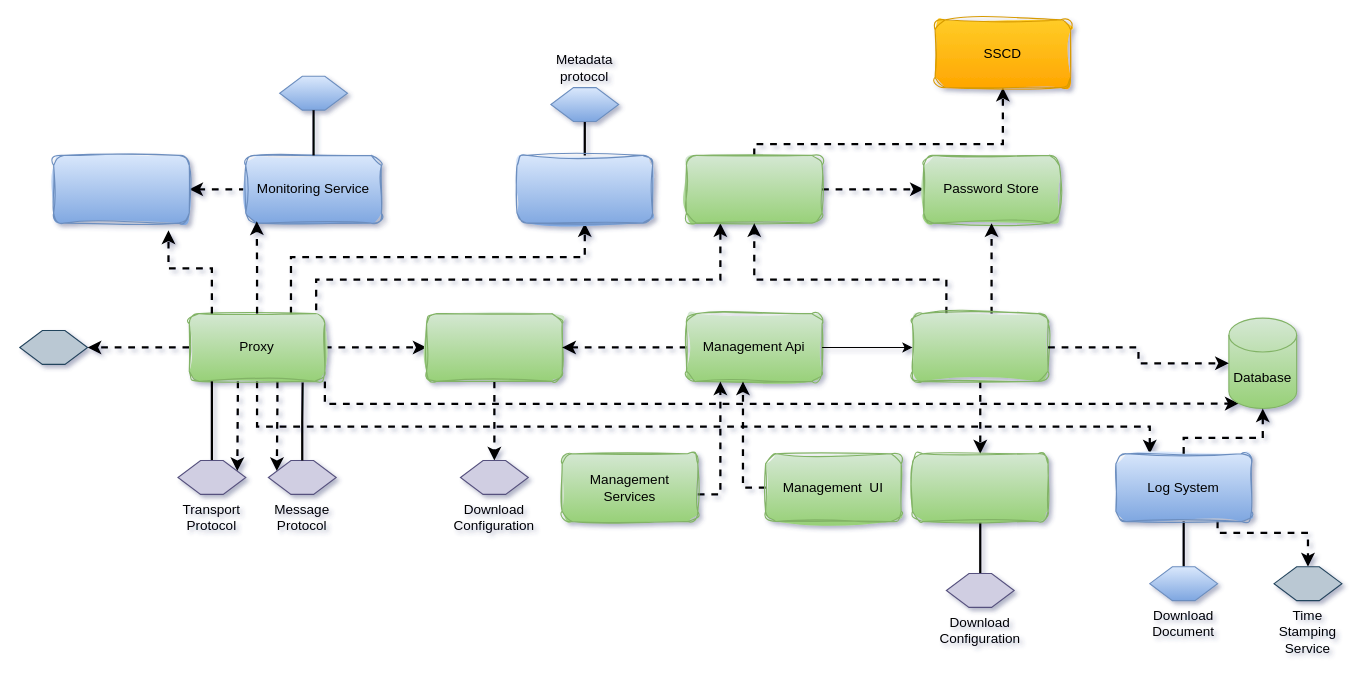
The diagram is 1368 pixels wide and 684 high, and some of its shapes have lost their labels. Each missing label, with the centre of its shape:
Administration Service: the point at 979,346
Configuration: the point at 493,346
Message Signer: the point at 753,188
Metadata Service: the point at 584,188
Monitoring Potocols: the point at 313,92
Monitoring UI: the point at 121,188
OCSP: the point at 53,346
Web Server: the point at 979,487
